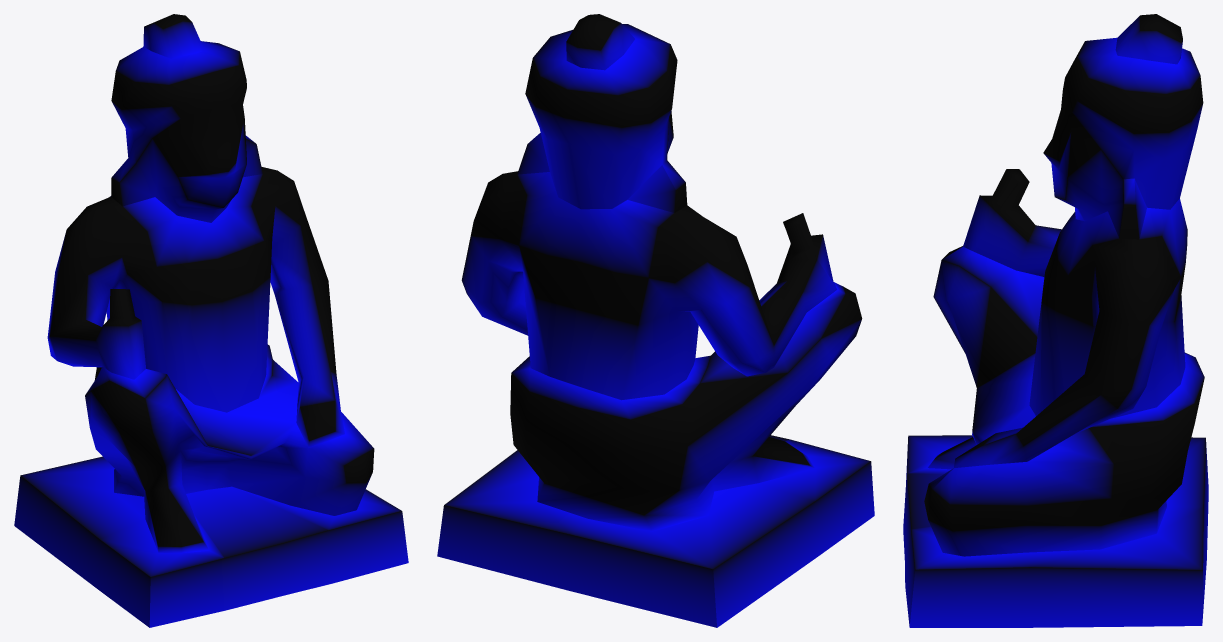
The model's file is Prop_CamodianDemonStatue2_01.FBX.
The picture shows the model from 3 angles, left to right: view 1: azimuth 30°, elevation 25°; view 2: azimuth 150°, elevation 25°; view 3: azimuth 270°, elevation 25°; orthographic projection. The views are drawn at different scales.
Visible parts, largest first — view 1: Prop_CamodianDemonStatue2_01; view 2: Prop_CamodianDemonStatue2_01; view 3: Prop_CamodianDemonStatue2_01.
Part boxes in pixels (x1=…): Prop_CamodianDemonStatue2_01: x1=14, y1=14, x2=408, y2=627; Prop_CamodianDemonStatue2_01: x1=437, y1=14, x2=874, y2=627; Prop_CamodianDemonStatue2_01: x1=903, y1=14, x2=1208, y2=627.
Size of the model in its own units: 151 by 250 by 128.
